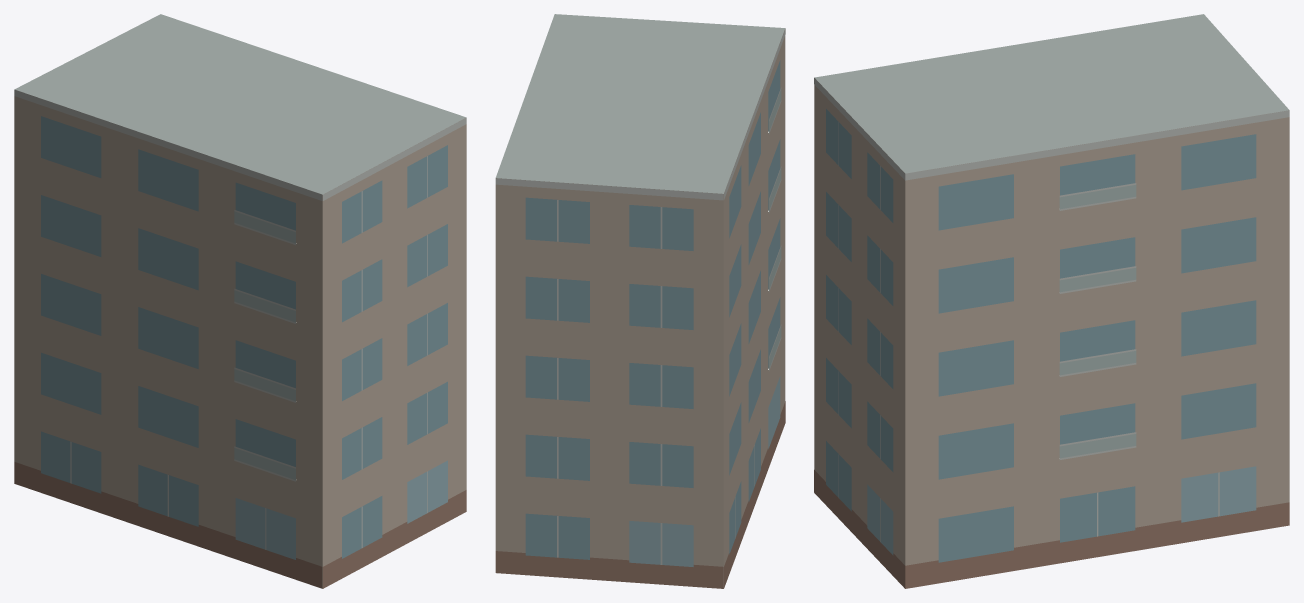
The model's file is survey-upis-32884170.glb.
The picture shows the model from 3 angles, left to right: view 1: azimuth 30°, elevation 25°; view 2: azimuth 150°, elevation 25°; view 3: azimuth 270°, elevation 25°; orthographic projection. The views are drawn at different scales.
Parts seen in each view (by area): view 1: survey-upis-32884170.tmp; view 2: survey-upis-32884170.tmp; view 3: survey-upis-32884170.tmp.
Boxes of the visible parts, x1=… form: survey-upis-32884170.tmp: x1=14, y1=14, x2=466, y2=588; survey-upis-32884170.tmp: x1=495, y1=14, x2=785, y2=588; survey-upis-32884170.tmp: x1=814, y1=14, x2=1289, y2=588.
Bounding box in the file's own units: 12.05 × 14.6 × 15.16.
